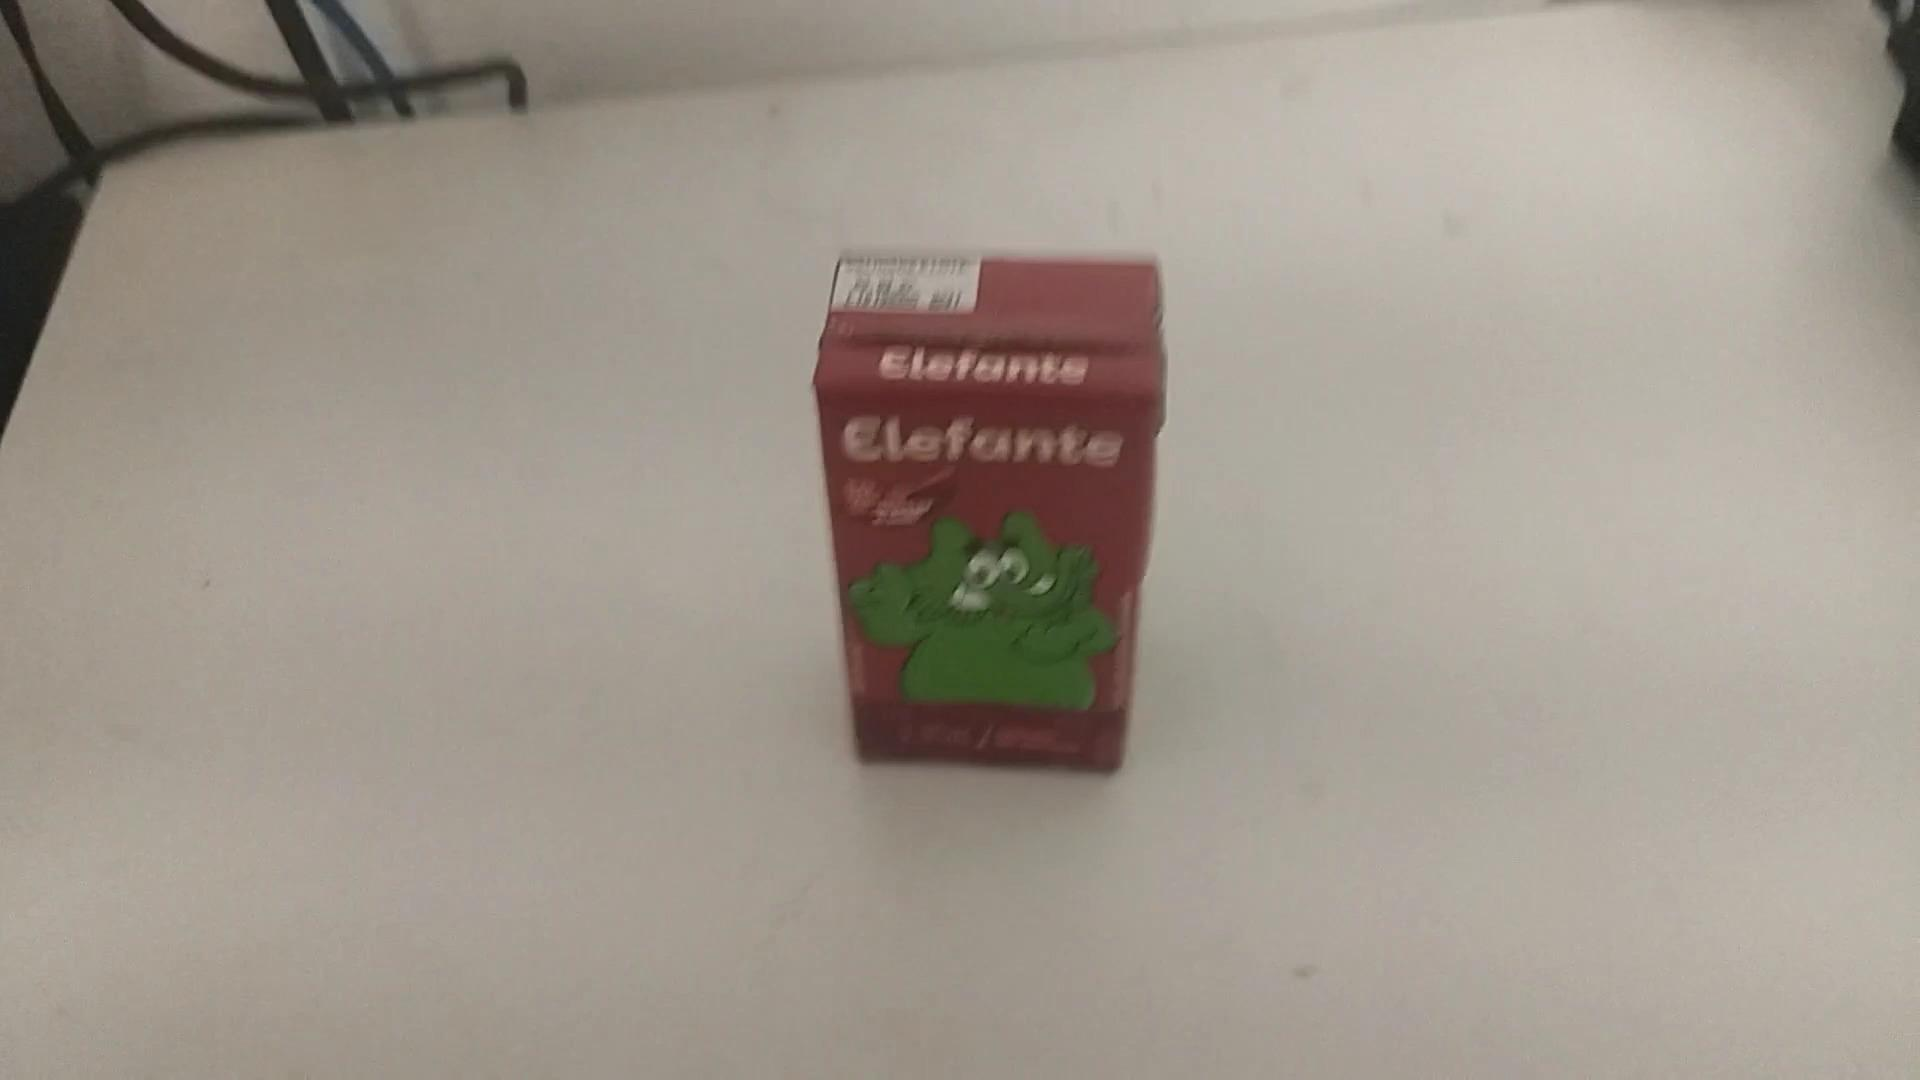tomate: (806, 237, 1178, 775)
